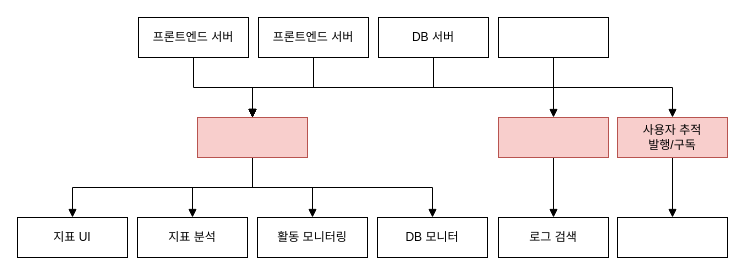
This 745x275 diagram has some shape labels left out. The shapes that lost their labels are listed below. From the top down, each one's box as (x1, y1, x2, y2) in pixels, then its label:
(498, 16, 608, 58): 채팅 서버
(196, 116, 308, 158): 지표값 발행/구독
(498, 116, 608, 158): 로그 메시지 발행/구독
(616, 216, 728, 258): 오프라인 처리
